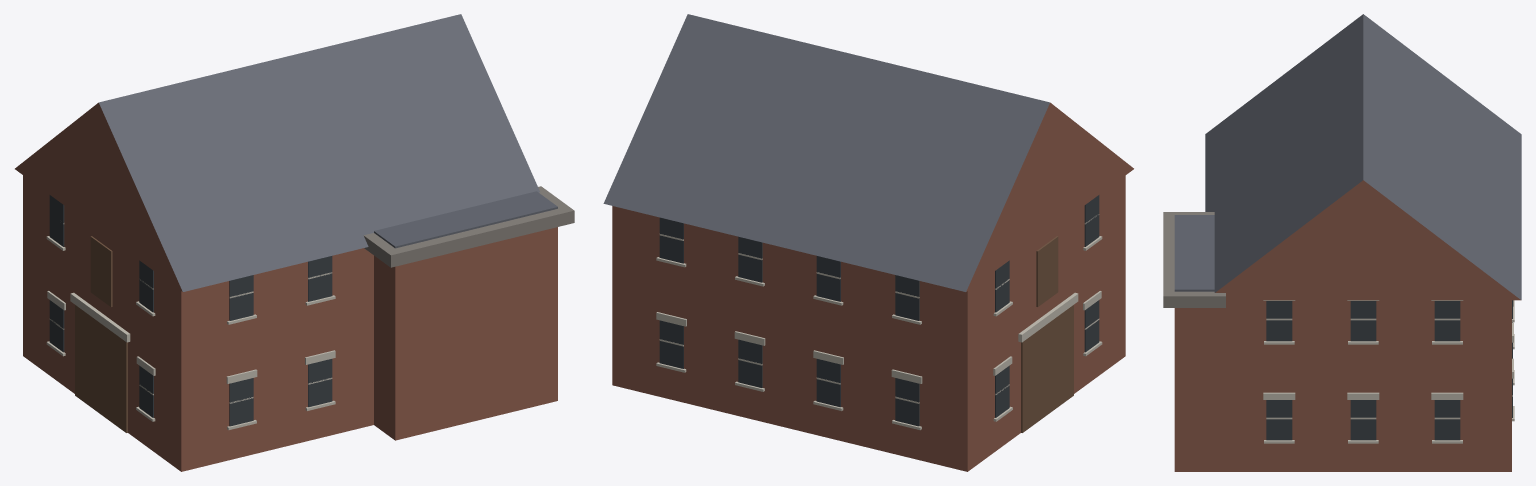
Rendered from house_2123_prairie_coach_house__draft_1904.glb.
3 renders of one model, left to right at view 1: azimuth 30°, elevation 25°; view 2: azimuth 150°, elevation 25°; view 3: azimuth 270°, elevation 25°, orthographic. The views are drawn at different scales.
Visible parts, largest first — view 1: house_2123_prairie_coach_house__draft_1904; view 2: house_2123_prairie_coach_house__draft_1904; view 3: house_2123_prairie_coach_house__draft_1904.
Boxes of the visible parts, x1,y1,x2,y2 form: house_2123_prairie_coach_house__draft_1904: (15, 14, 574, 471); house_2123_prairie_coach_house__draft_1904: (603, 14, 1133, 471); house_2123_prairie_coach_house__draft_1904: (1163, 14, 1521, 471).
Bounding box in the file's own units: 12.47 × 10.08 × 11.15.
